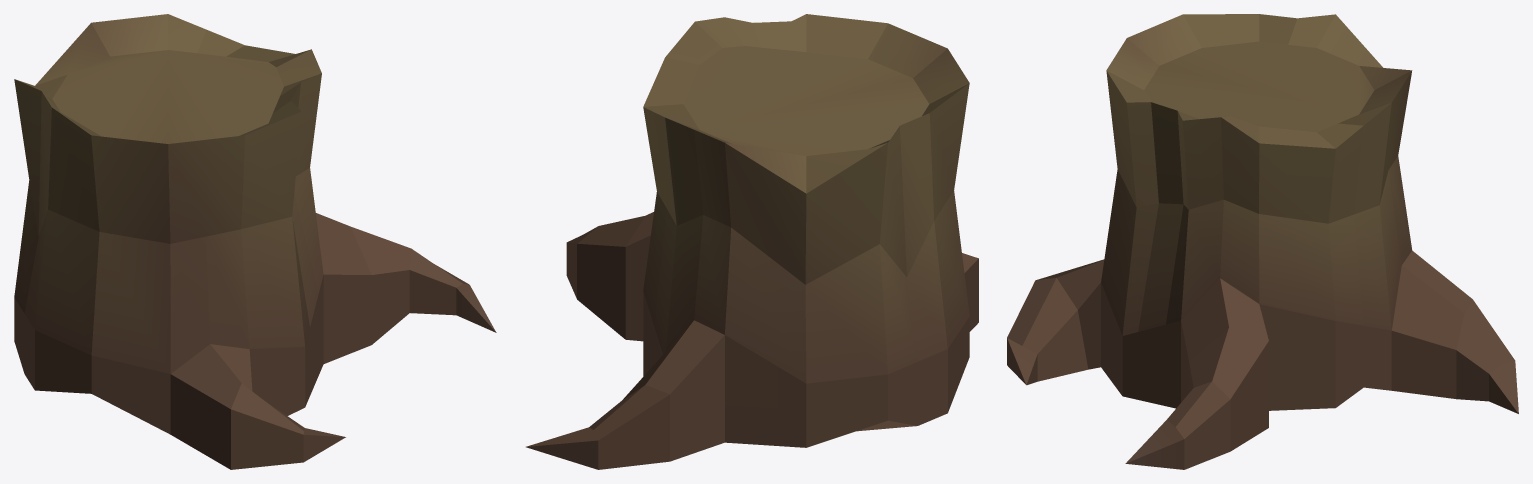
The model's file is pieniek.fbx.
3 views of the same model, side by side, from view 1: azimuth 30°, elevation 25°; view 2: azimuth 150°, elevation 25°; view 3: azimuth 270°, elevation 25° (orthographic). The views are drawn at different scales.
Parts seen in each view (by area): view 1: Cylinder; view 2: Cylinder; view 3: Cylinder.
Boxes of the visible parts, box(x1,y1,x2,y2) form: Cylinder: box(14, 14, 496, 469); Cylinder: box(526, 14, 978, 469); Cylinder: box(1007, 14, 1518, 469).
Size of the model in its own units: 113 by 85.83 by 127.
